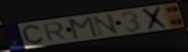3: (120, 9, 143, 34)
C: (22, 24, 46, 45)
M: (68, 15, 99, 41)
N: (91, 12, 121, 37)
R: (41, 21, 69, 43)
X: (141, 6, 169, 32)
